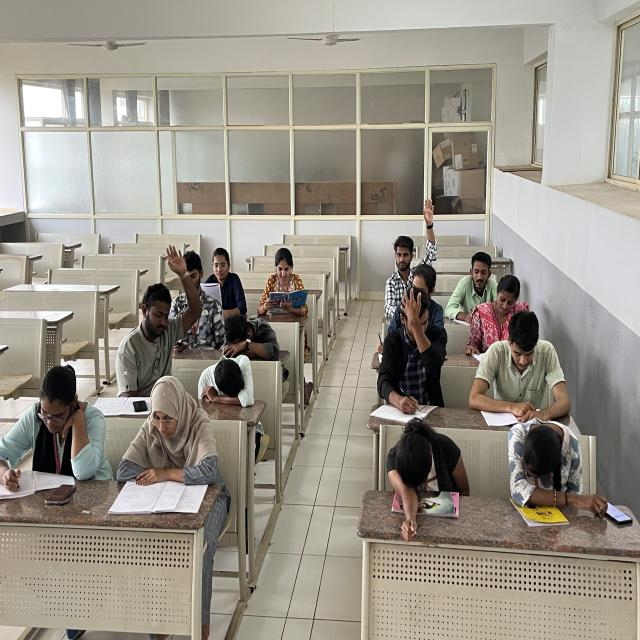Hand Rising: (125, 240, 198, 386), (391, 196, 447, 316)
Reading: (120, 376, 233, 521), (468, 304, 570, 426), (461, 278, 537, 350), (254, 243, 314, 324), (448, 250, 510, 326), (200, 244, 247, 313)
Sleeping: (367, 416, 476, 542), (501, 410, 613, 525), (214, 308, 291, 372), (190, 347, 263, 413)
Writing: (0, 353, 110, 512), (377, 288, 449, 427)
